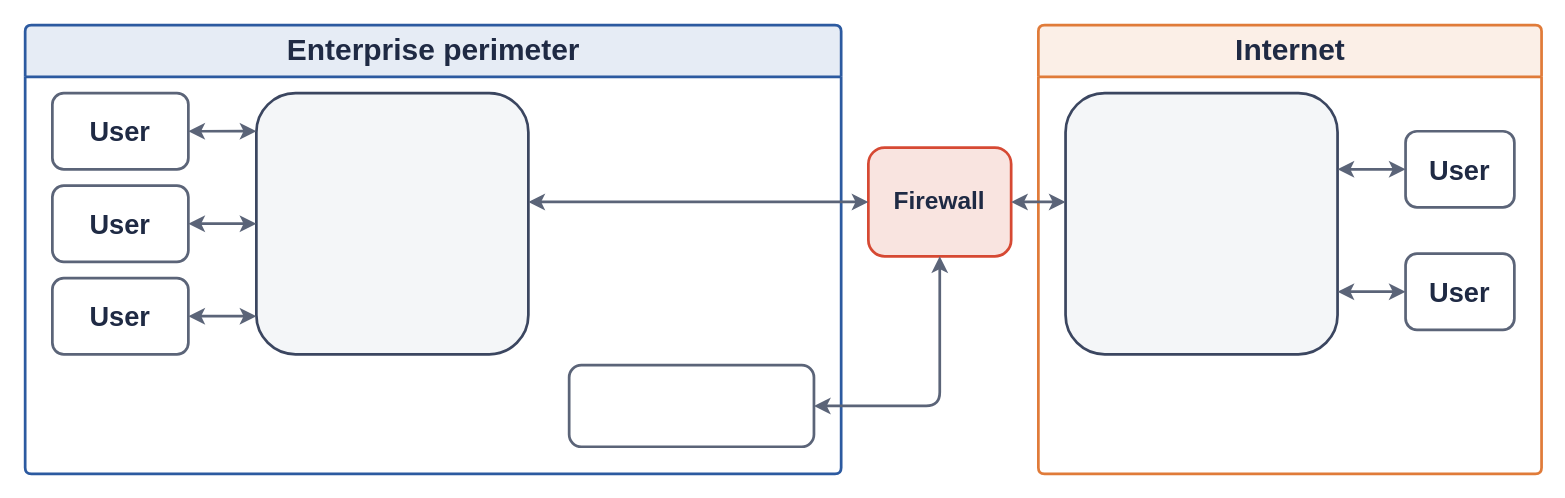
The diagram is 1565 pixels wide and 498 high, and some of its shapes have lost their labels. Each missing label, with the centre of its shape:
"Internal DNS www.example.com is 10.0.0.1" belongs at (x=391, y=223).
"Public DNS www.example.com is 11.22.33.44" belongs at (x=1201, y=223).
"Web server" belongs at (x=691, y=405).
